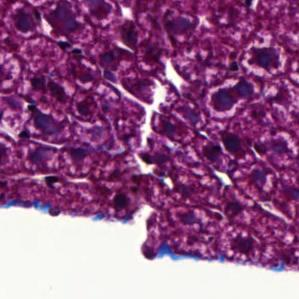inflammation: (205, 75, 267, 128), (242, 39, 287, 74)
